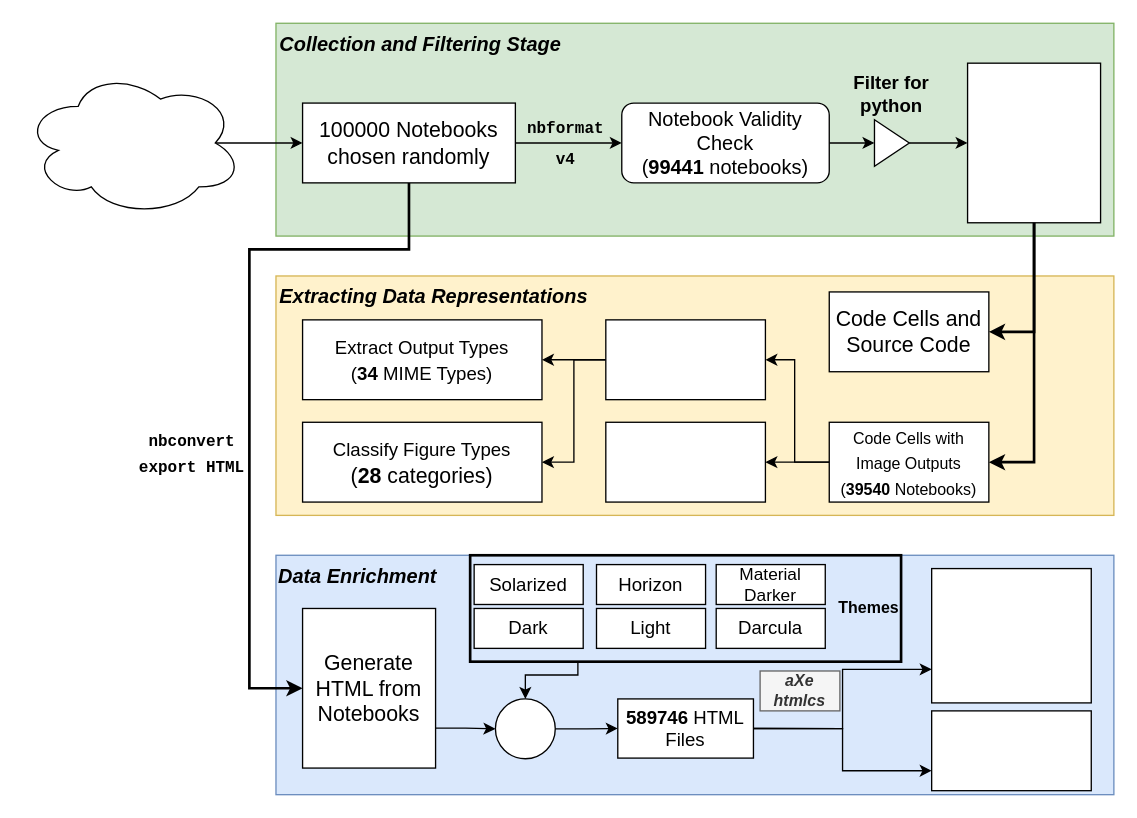
The diagram is 1137 pixels wide and 818 high, and some of its shapes have lost their labels. The shapes that lost their labels are listed below. From the top down, each one's centre as x and y in pixels, then its label:
the point at 132,142: JetBrains 10 M Notebooks Dataset
the point at 1033,142: 92050 Python Notebooks
the point at 684,359: Extract Output Figures ( 342722 Images)
the point at 684,461: Analyze Source Code
the point at 1010,635: Accessibility Scan Results 238675580 (errors + warnings + notices)
the point at 524,728: Apply
the point at 1010,750: Headings and Tables
